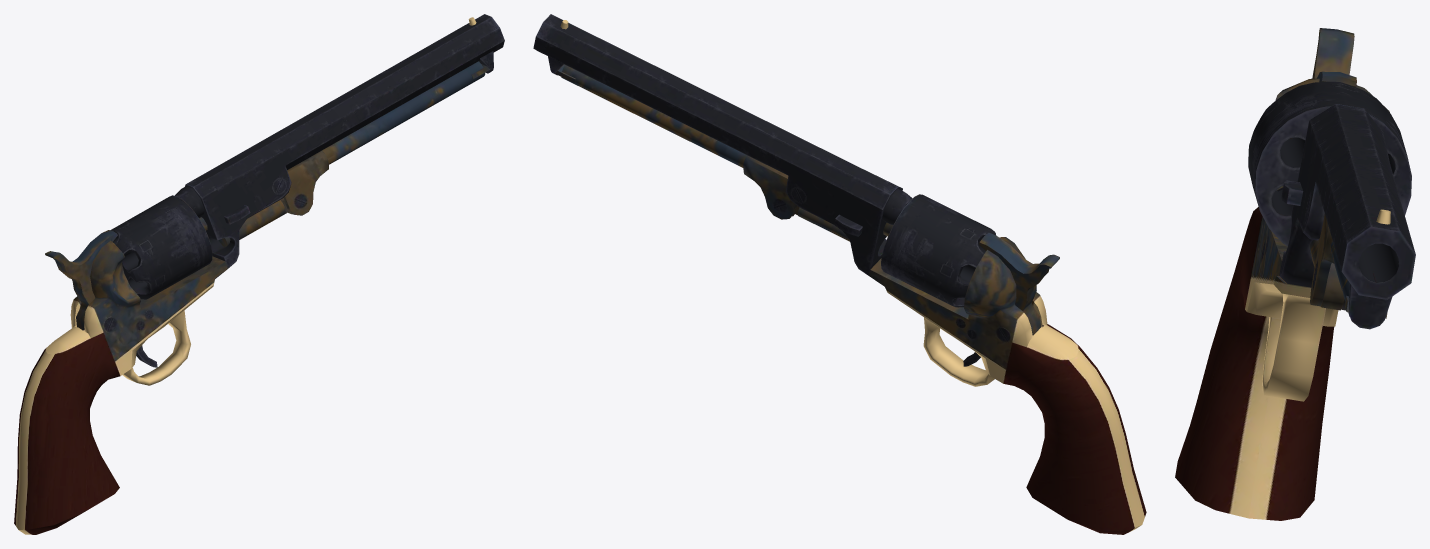
Rendered from revolver.glb.
3 views of the same model, side by side, from view 1: azimuth 30°, elevation 25°; view 2: azimuth 150°, elevation 25°; view 3: azimuth 270°, elevation 25° (orthographic). The views are drawn at different scales.
Visible parts, largest first — view 1: base_low, barrel_low, part_2_low, trigger_1_low, part_1_low; view 2: base_low, barrel_low, part_2_low, trigger_1_low; view 3: base_low, barrel_low, trigger_1_low, part_2_low, nose_part_low, part_1_low, part_3_low.
Boxes of the visible parts, <box> form: base_low: <box>14,14,504,534</box>; barrel_low: <box>110,195,212,299</box>; part_2_low: <box>283,61,489,215</box>; trigger_1_low: <box>45,230,117,330</box>; part_1_low: <box>218,198,292,247</box>; base_low: <box>533,14,1146,534</box>; barrel_low: <box>881,194,996,307</box>; part_2_low: <box>555,64,796,219</box>; trigger_1_low: <box>979,232,1059,335</box>; base_low: <box>1175,78,1415,520</box>; barrel_low: <box>1248,81,1411,250</box>; trigger_1_low: <box>1312,28,1356,86</box>; part_2_low: <box>1310,214,1387,318</box>; nose_part_low: <box>1348,283,1392,329</box>; part_1_low: <box>1309,240,1343,310</box>; part_3_low: <box>1281,180,1303,205</box>.
Size of the model in its own units: 2.9 by 2.01 by 0.5884.
Materials: 1 (1 with a texture image).
